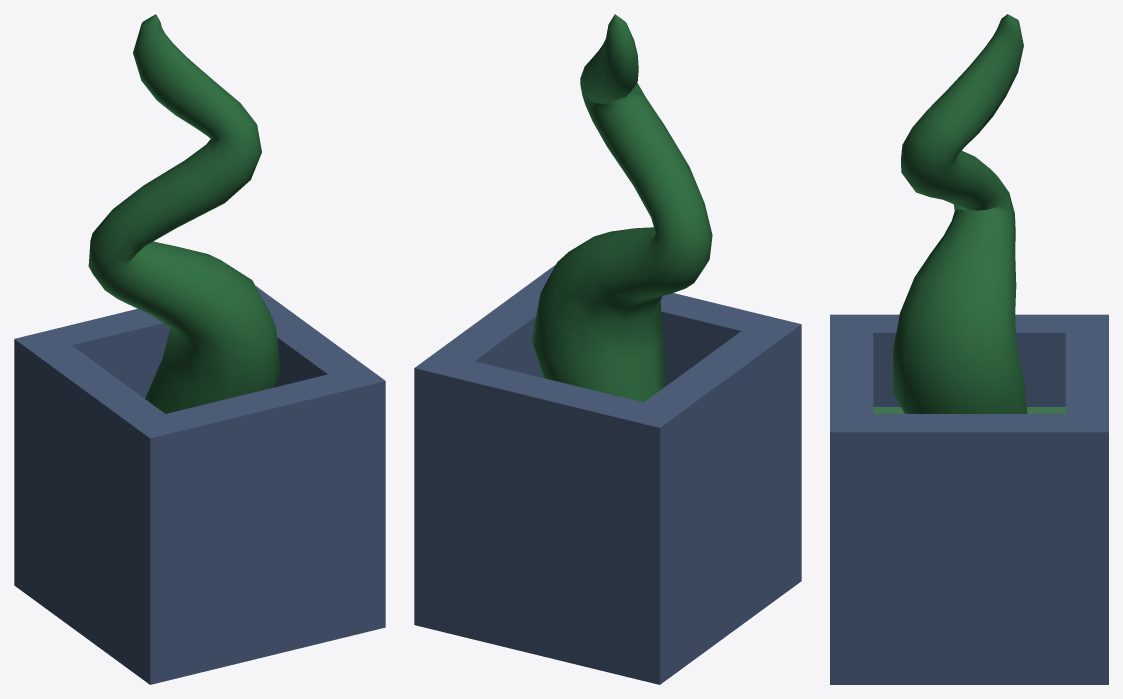
File: Decor.fbx
3 views of the same model, side by side, from view 1: azimuth 30°, elevation 25°; view 2: azimuth 150°, elevation 25°; view 3: azimuth 270°, elevation 25° (orthographic). The views are drawn at different scales.
Parts seen in each view (by area): view 1: Cube.001, BezierCurve; view 2: Cube.001, BezierCurve; view 3: Cube.001, BezierCurve.
Boxes of the visible parts, <box> form: Cube.001: <box>14,286,385,684</box>; BezierCurve: <box>88,14,280,413</box>; Cube.001: <box>414,265,801,684</box>; BezierCurve: <box>531,14,712,402</box>; Cube.001: <box>830,314,1108,684</box>; BezierCurve: <box>893,14,1027,413</box>.
Bounding box in the file's own units: 68.11 × 162 × 68.11.
